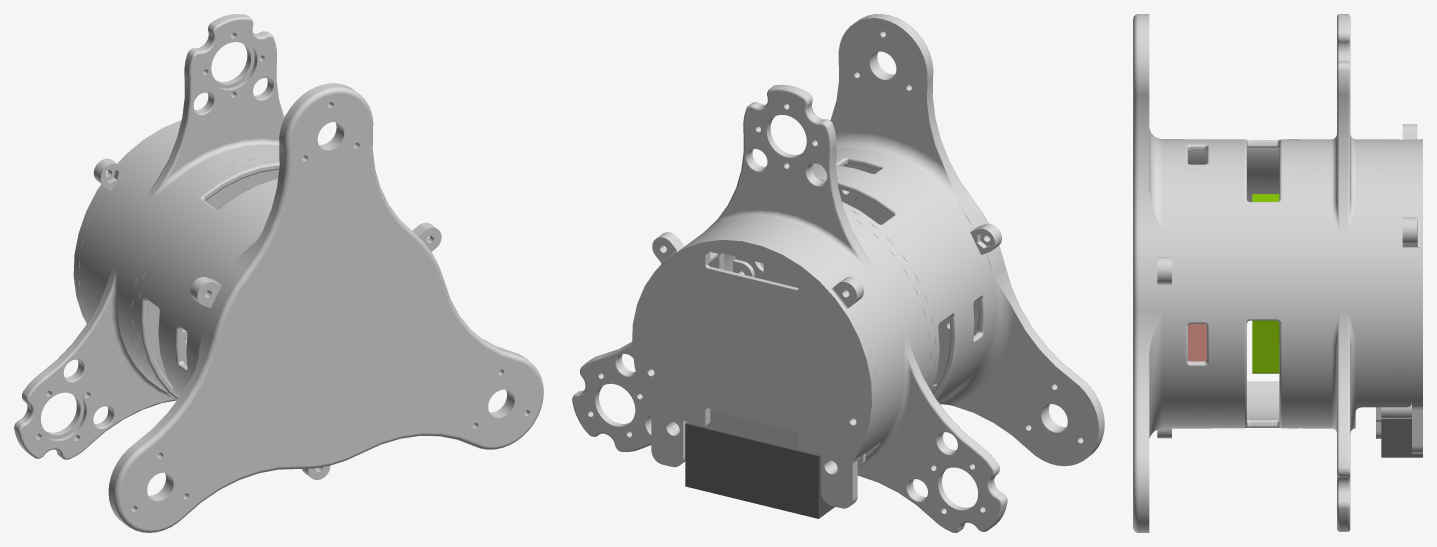
The model's file is arm0.glb.
The picture shows the model from 3 angles, left to right: view 1: azimuth 30°, elevation 25°; view 2: azimuth 150°, elevation 25°; view 3: azimuth 270°, elevation 25°; orthographic projection. The views are drawn at different scales.
Parts seen in each view (by area): view 1: arm0; view 2: arm0; view 3: arm0.
Boxes of the visible parts, x1,y1,x2,y2 form: arm0: [14, 14, 543, 532]; arm0: [572, 14, 1104, 532]; arm0: [1133, 14, 1422, 532].
Bounding box in the file's own units: 0.1941 × 0.1735 × 0.108.
